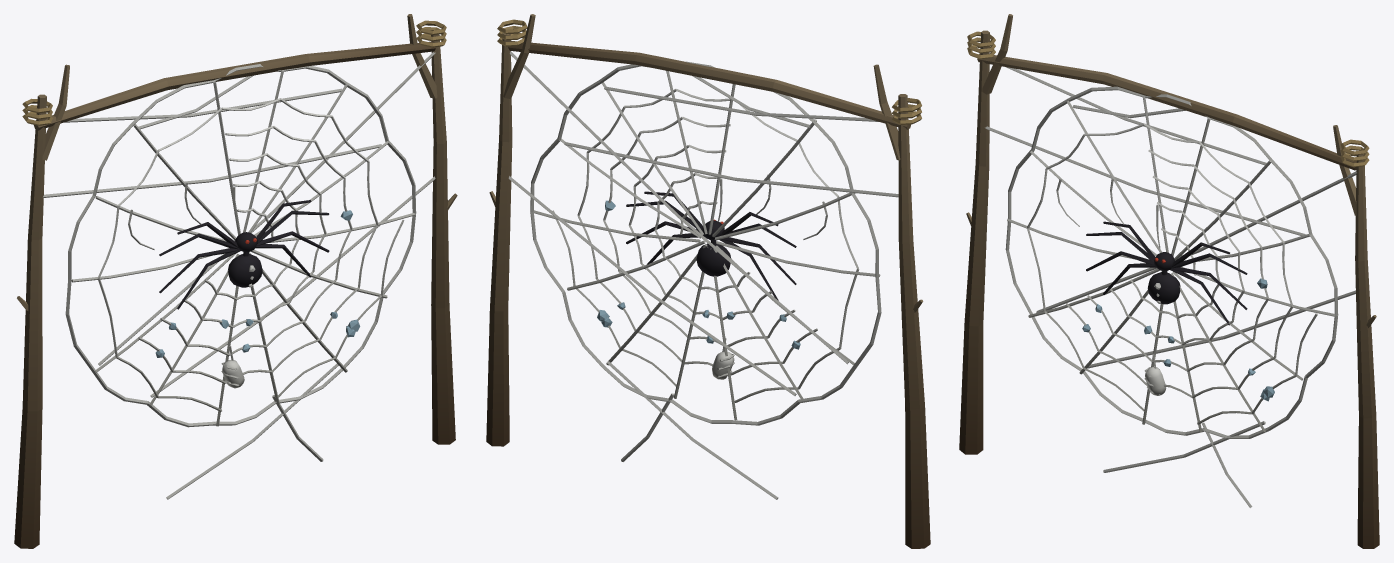
Rendered from spider_web_01.glb.
3 renders of one model, left to right at view 1: azimuth 30°, elevation 25°; view 2: azimuth 150°, elevation 25°; view 3: azimuth 330°, elevation 25°, orthographic. The views are drawn at different scales.
Parts seen in each view (by area): view 1: spider_web_01; view 2: spider_web_01; view 3: spider_web_01.
Boxes of the visible parts, x1=… form: spider_web_01: x1=14, y1=14, x2=457, y2=548; spider_web_01: x1=486, y1=14, x2=930, y2=548; spider_web_01: x1=959, y1=14, x2=1379, y2=548.
Size of the model in its own units: 2.2 by 2.25 by 0.204.
